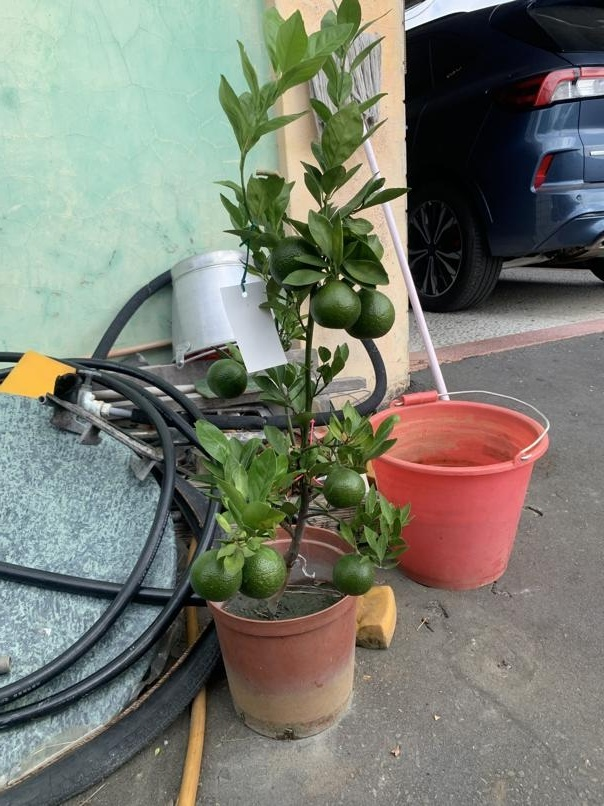Tangerine: (305, 275, 365, 333), (190, 547, 243, 602), (237, 546, 289, 600), (349, 284, 398, 341), (333, 548, 376, 597), (323, 463, 365, 508), (206, 353, 247, 398)
